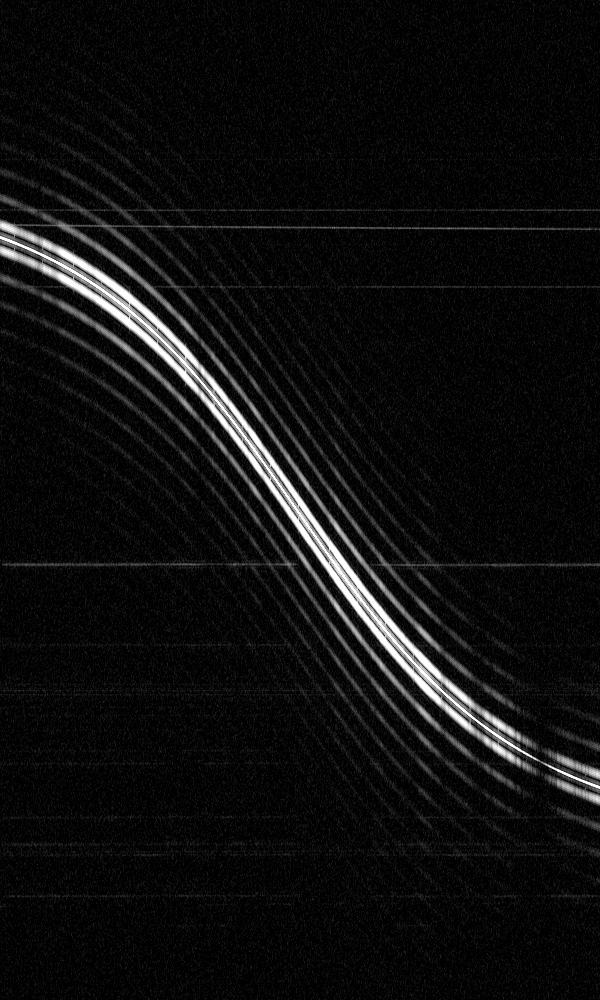signal: (0, 0, 599, 999)
